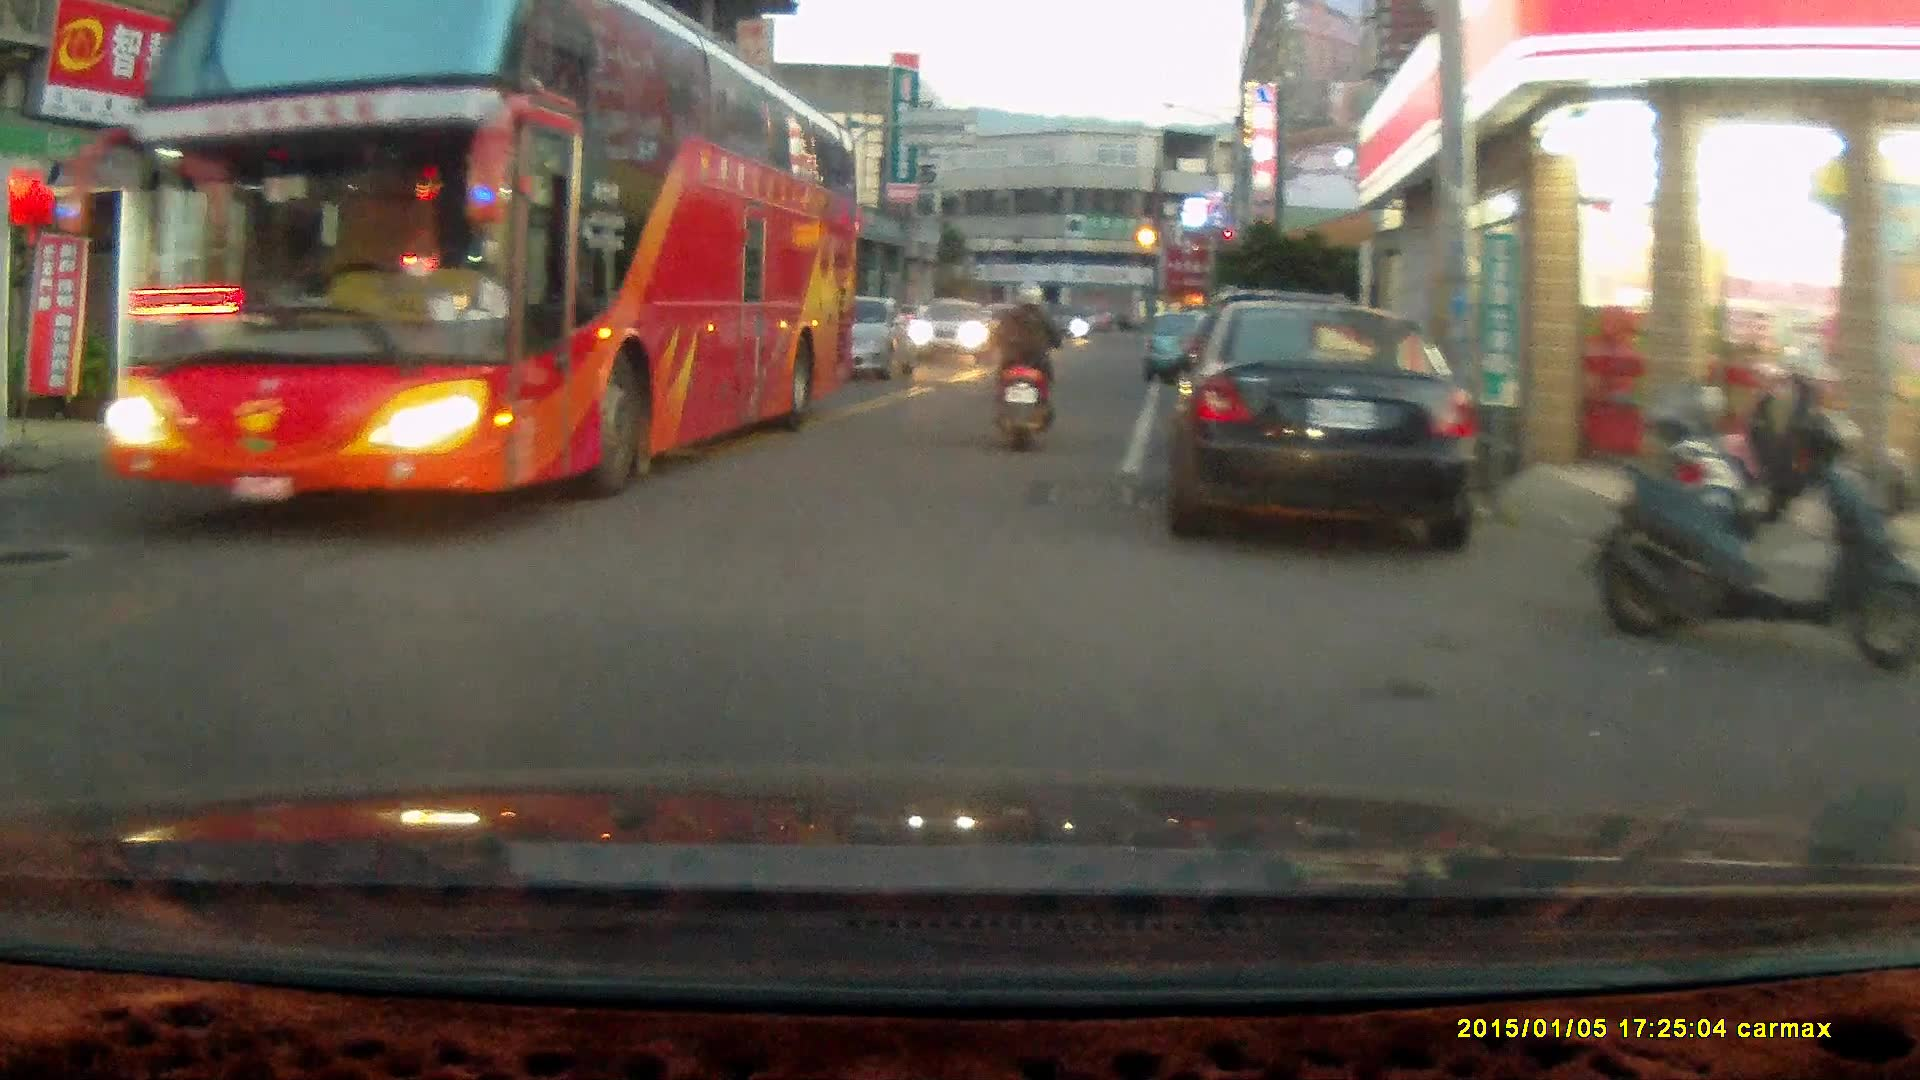rider: (987, 279, 1062, 453)
vehicle: (120, 7, 866, 518), (1144, 296, 1481, 553), (809, 294, 915, 382), (905, 298, 1000, 366), (1142, 312, 1224, 386)
